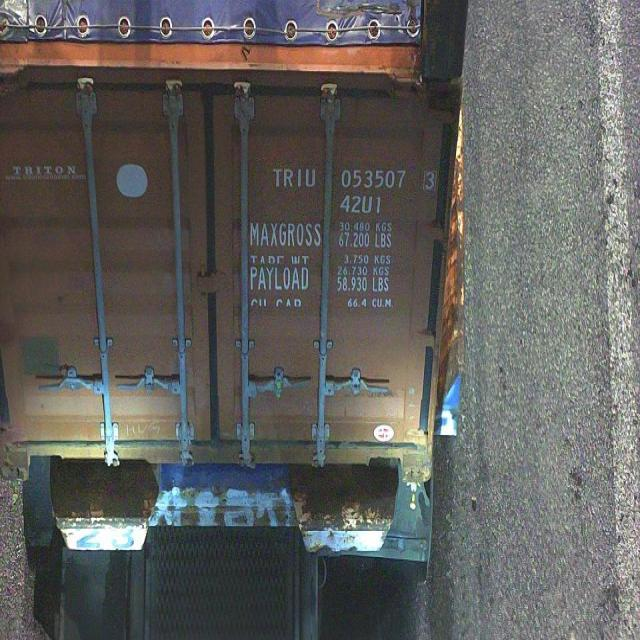ISO: (340, 193, 382, 216)
container_number: (269, 158, 438, 193)
